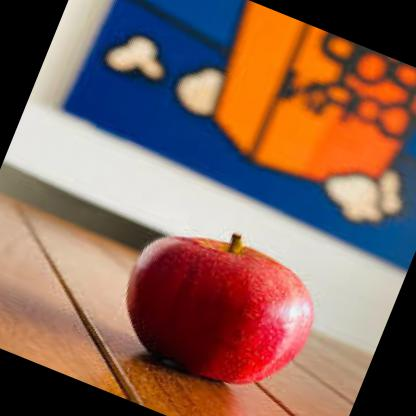apple: (101, 197, 339, 413)
